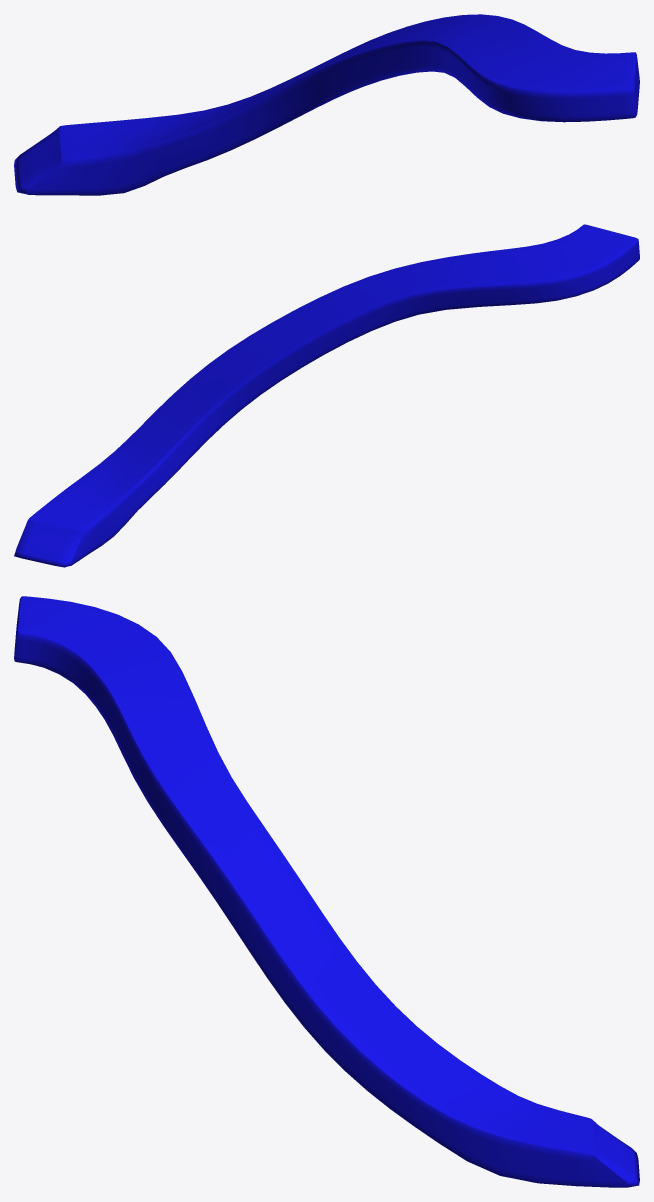
Rendered from SM_Platform_Curvy_01.fbx.
3 renders of one model, top to bottom at view 1: azimuth 90°, elevation 25°; view 2: azimuth 150°, elevation 25°; view 3: azimuth 270°, elevation 25°, orthographic. The views are drawn at different scales.
Parts seen in each view (by area): view 1: NurbsCurve.001; view 2: NurbsCurve.001; view 3: NurbsCurve.001.
Part boxes in pixels (<box>): NurbsCurve.001: <box>14,14,639,195</box>; NurbsCurve.001: <box>14,224,639,567</box>; NurbsCurve.001: <box>14,596,639,1187</box>.
Bounding box in the file's own units: 1263 × 747 × 1277.
